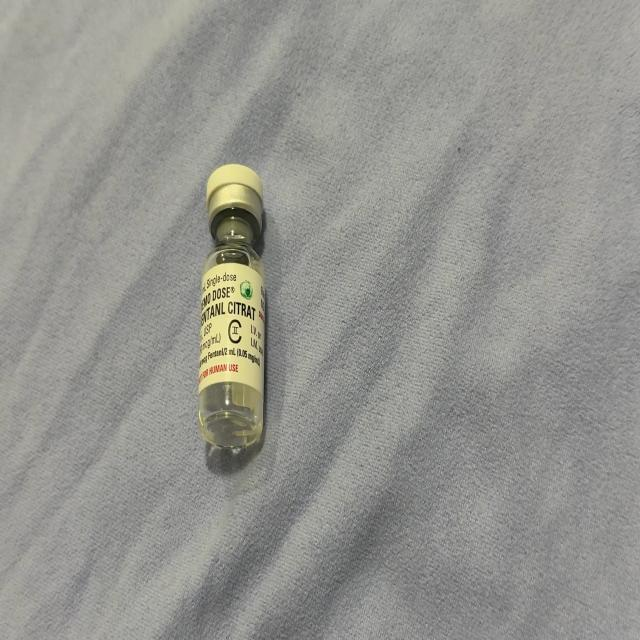fentanl_citrat: (198, 169, 264, 454)
